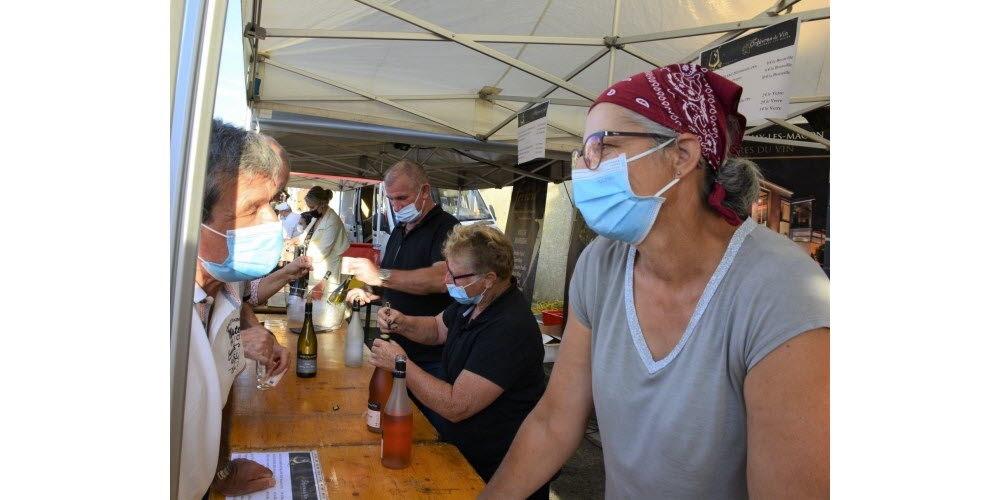with_incorrect_mask: (439, 248, 496, 317), (389, 182, 427, 230)
with_mask: (572, 114, 667, 248), (221, 150, 287, 299), (302, 196, 324, 220)
